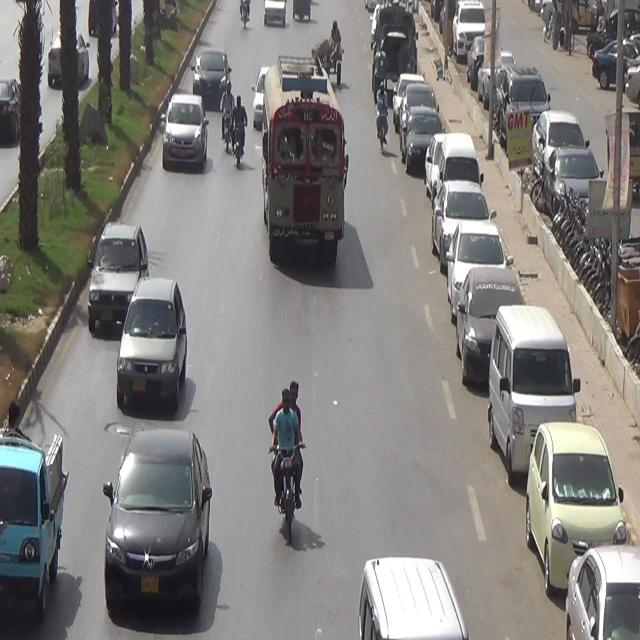car: (96, 422, 221, 617), (116, 271, 187, 414), (82, 214, 148, 349), (156, 87, 212, 181), (190, 41, 232, 112)
motorbike: (261, 377, 317, 548), (230, 92, 248, 168)
truck: (0, 408, 69, 627)
